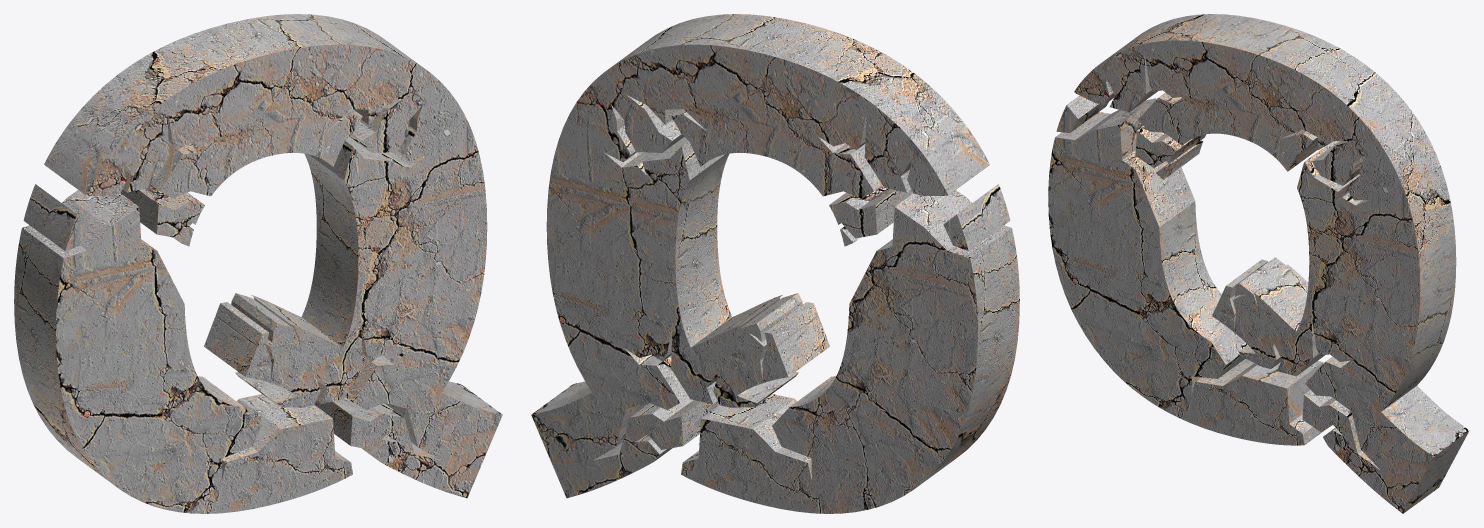
3 views of the same model, side by side, from view 1: azimuth 30°, elevation 25°; view 2: azimuth 150°, elevation 25°; view 3: azimuth 330°, elevation 25° (orthographic). The views are drawn at different scales.
Visible parts, largest first — view 1: Q; view 2: Q; view 3: Q.
Boxes of the visible parts, x1,y1,x2,y2 form: Q: [14, 14, 502, 513]; Q: [531, 14, 1019, 513]; Q: [1048, 14, 1469, 513].
Size of the model in its own units: 92.65 by 97.58 by 15.
Materials: 1 (1 with a texture image).
